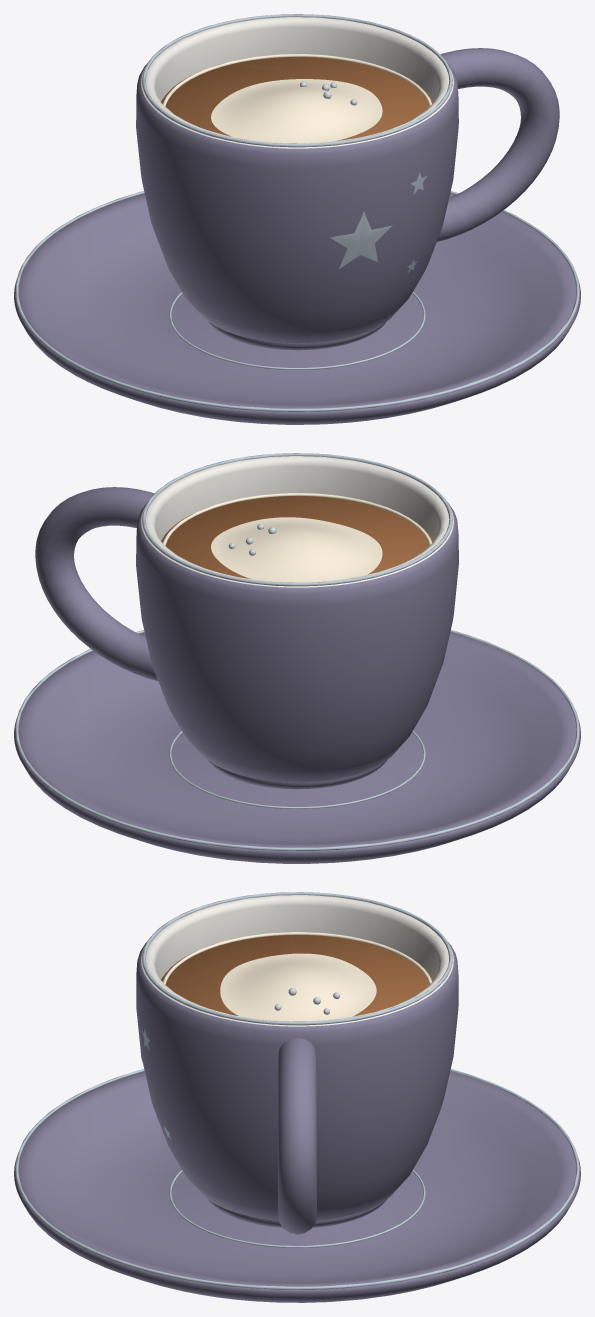
The model's file is stardust-latte.glb.
The picture shows the model from 3 angles, top to bottom: view 1: azimuth 30°, elevation 25°; view 2: azimuth 150°, elevation 25°; view 3: azimuth 270°, elevation 25°; orthographic projection.
Parts seen in each view (by area): view 1: Cup, Saucer, Drink; view 2: Cup, Saucer, Drink; view 3: Cup, Saucer, Drink.
Boxes of the visible parts, box(x1,y1,x2,y2) form: Cup: box(136, 14, 559, 350); Saucer: box(14, 191, 580, 424); Drink: box(161, 54, 433, 143); Cup: box(35, 453, 458, 789); Saucer: box(14, 630, 580, 863); Drink: box(161, 493, 433, 582); Cup: box(136, 892, 458, 1234); Saucer: box(14, 1069, 580, 1302); Drink: box(161, 932, 433, 1021).
Size of the model in its own units: 0.1337 by 0.0647 by 0.1299.
